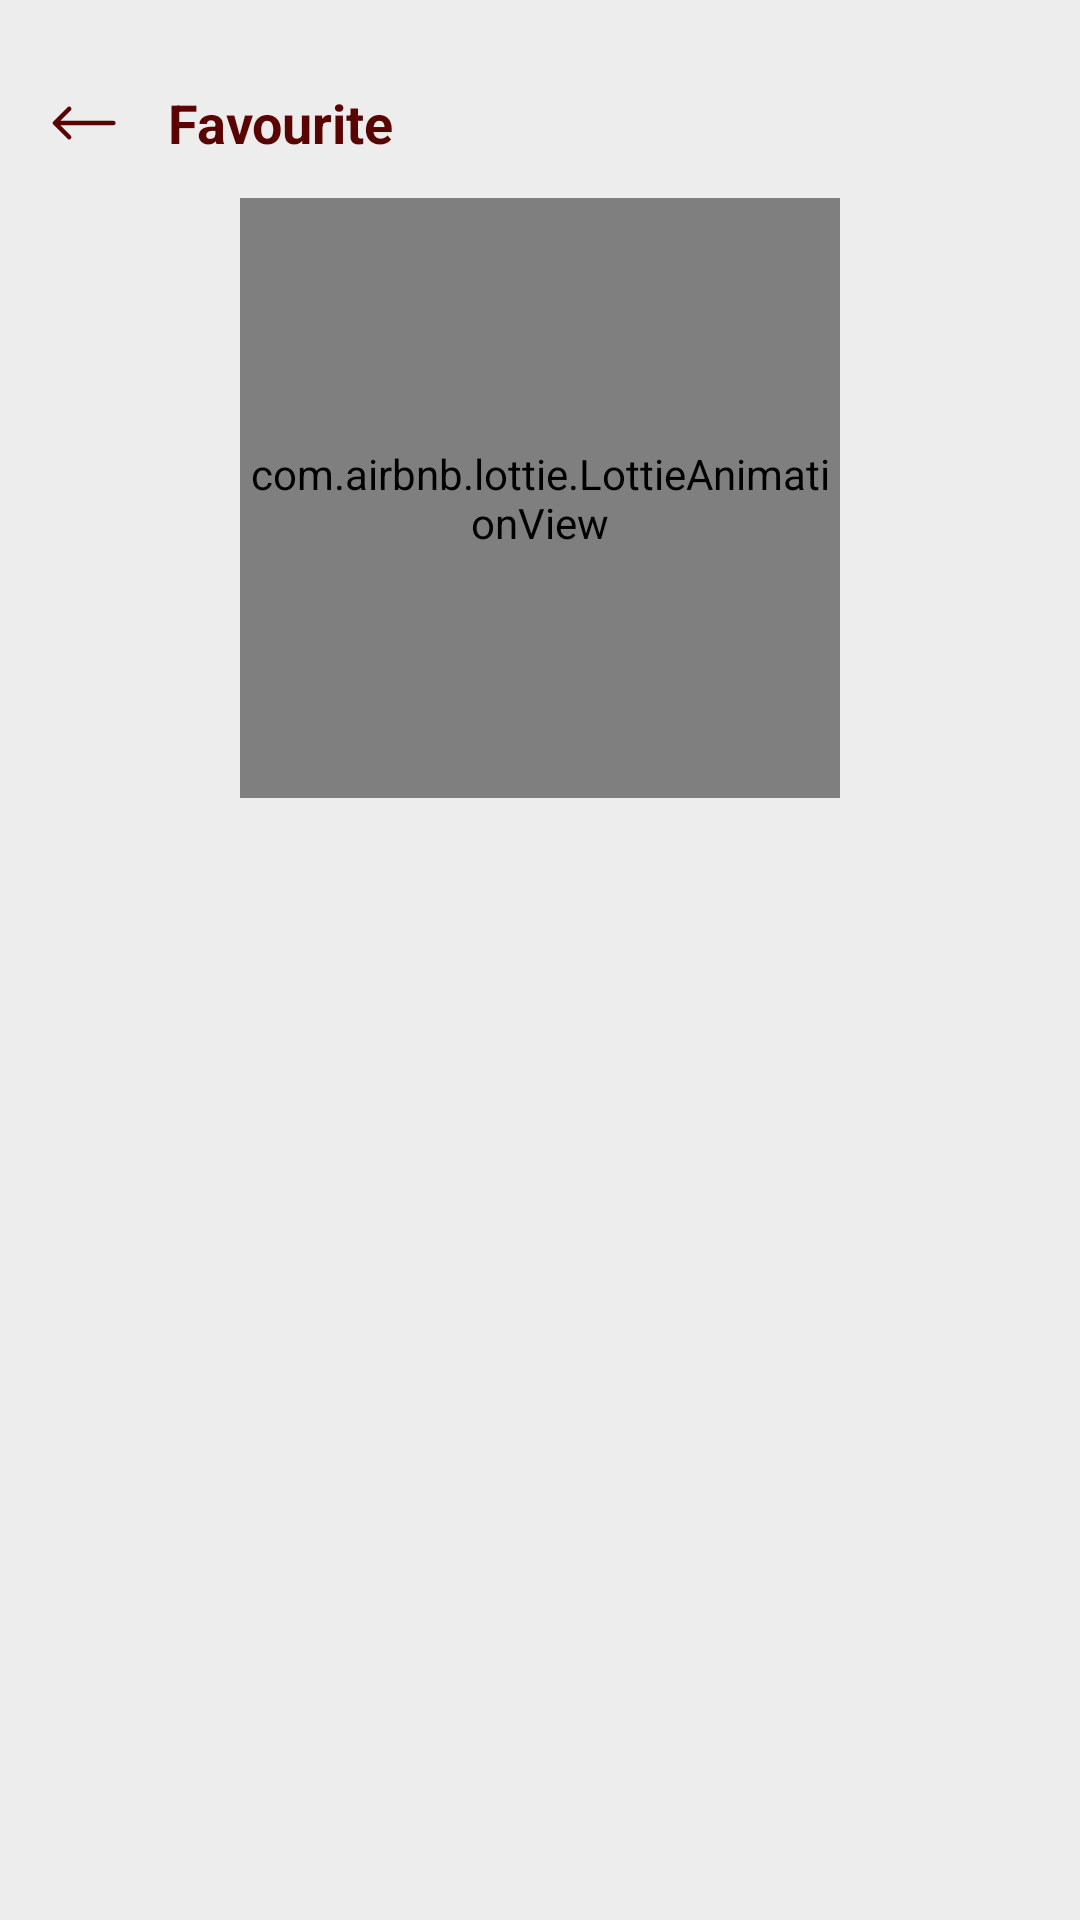

Named icons in this screenshot (1080 x 1920) and their centers, (x,y):
back: (84,123)
